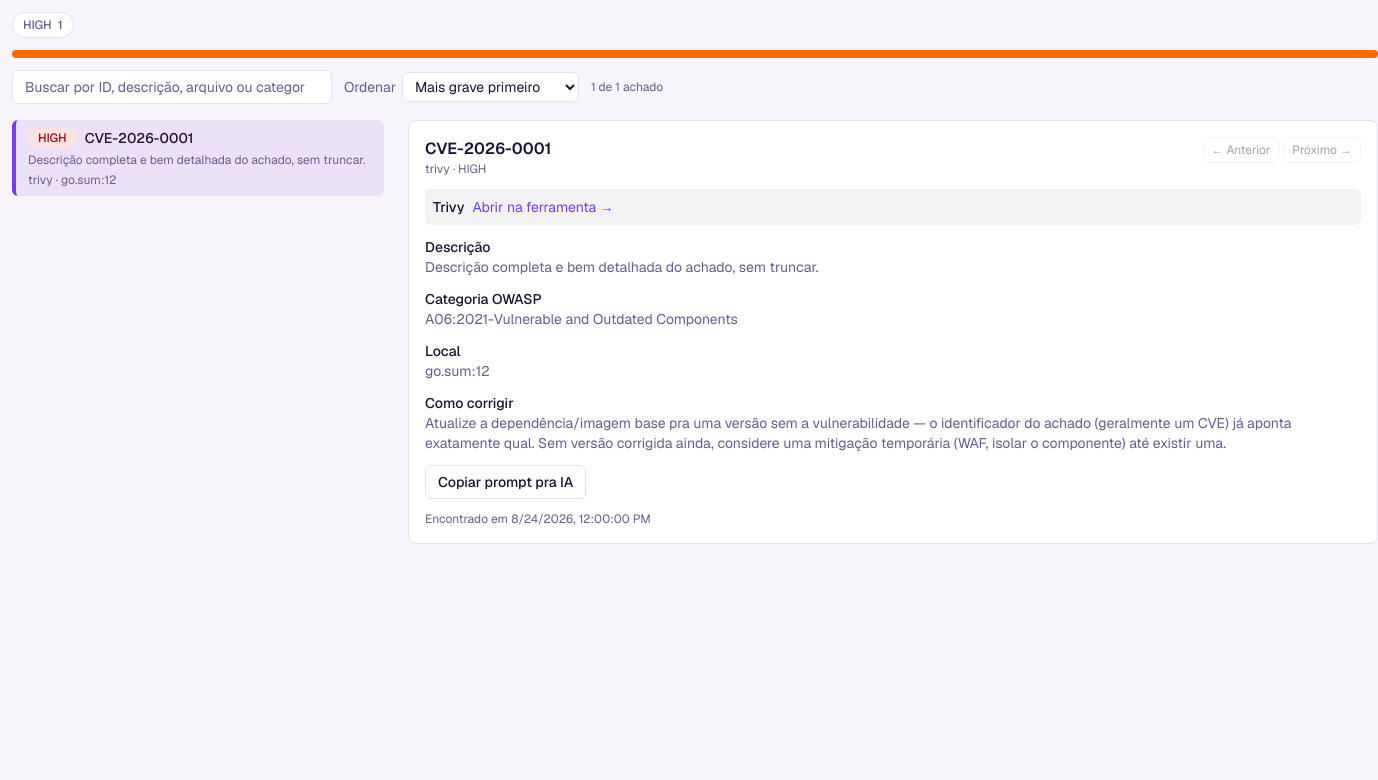
Test: FindingsTable › filtro sem nenhum resultado mostra o EmptyState de filtro, não o de lista vazia
expect the text "Como corrigir" is shown: met, box x1=425 y1=394 x2=514 y2=412
Step 1. Type "termo que não existe em nada" into the search field named "Buscar achados" → [172, 87], box x1=12 y1=70 x2=332 y2=104
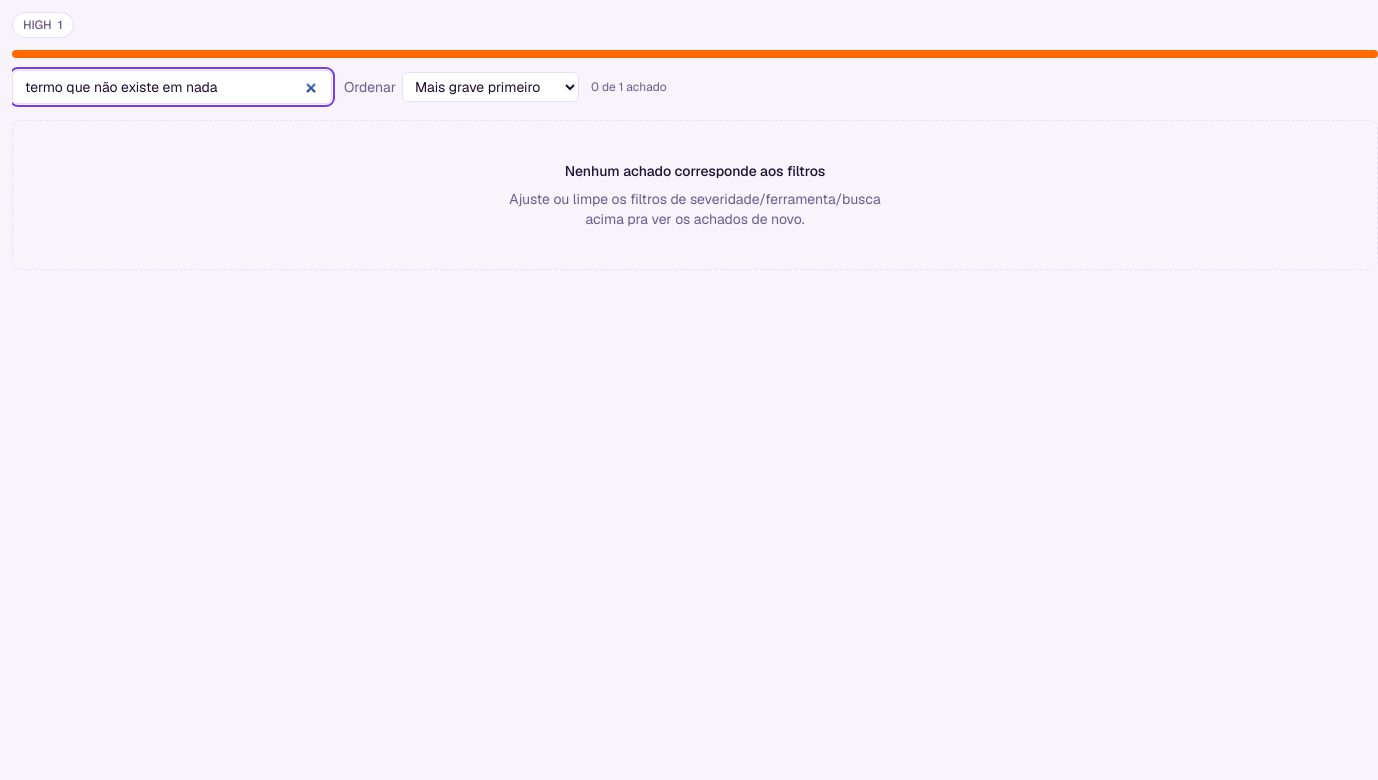
expect the text "Nenhum achado corresponde aos filtros" is shown: met, box x1=565 y1=161 x2=825 y2=181
